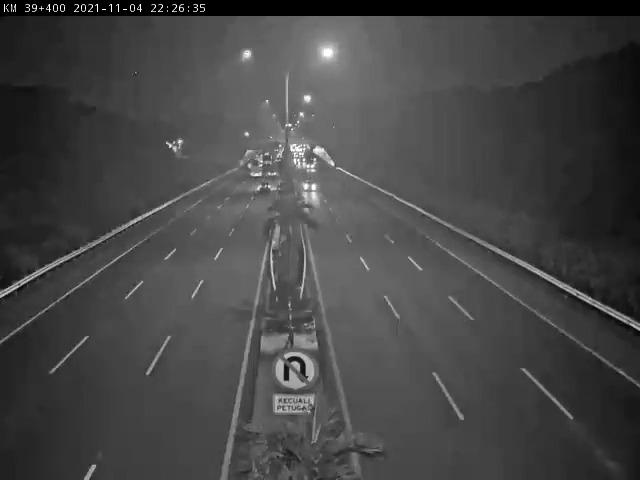car: (257, 180, 275, 196), (300, 176, 319, 190)
